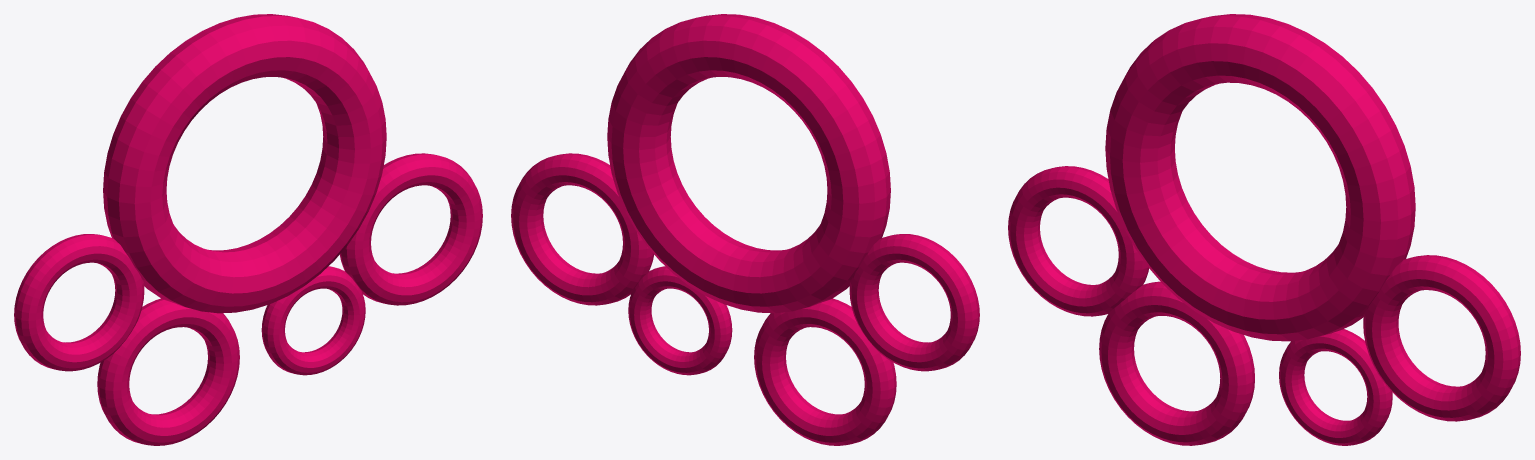
The model's file is Shootgun.fbx.
3 views of the same model, side by side, from view 1: azimuth 30°, elevation 25°; view 2: azimuth 150°, elevation 25°; view 3: azimuth 330°, elevation 25° (orthographic). The views are drawn at different scales.
Visible parts, largest first — view 1: Torus.003, Torus.004, Torus.005, Torus.007, Torus.006; view 2: Torus.003, Torus.004, Torus.005, Torus.007, Torus.006; view 3: Torus.003, Torus.005, Torus.004, Torus.007, Torus.006.
Part boxes in pixels (box(x1,y1,x2,y2)): Torus.003: box(103, 14, 386, 313); Torus.004: box(97, 298, 239, 445); Torus.005: box(339, 153, 482, 305); Torus.007: box(14, 234, 144, 371); Torus.006: box(261, 266, 365, 375); Torus.003: box(607, 14, 890, 313); Torus.004: box(754, 298, 896, 445); Torus.005: box(511, 153, 654, 305); Torus.007: box(849, 234, 979, 371); Torus.006: box(628, 266, 732, 375); Torus.003: box(1105, 14, 1415, 341); Torus.005: box(1363, 255, 1520, 421); Torus.004: box(1099, 281, 1254, 445); Torus.007: box(1008, 166, 1148, 316); Torus.006: box(1279, 329, 1392, 445).
Size of the model in its own units: 1424 by 1186 by 169.
